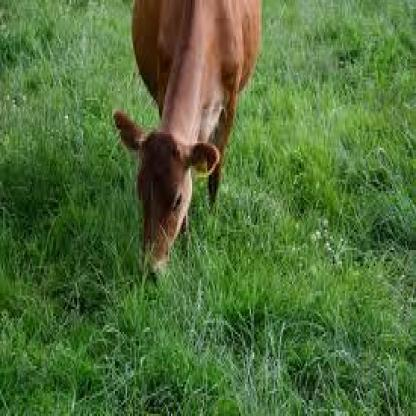cow: (112, 0, 264, 277)
